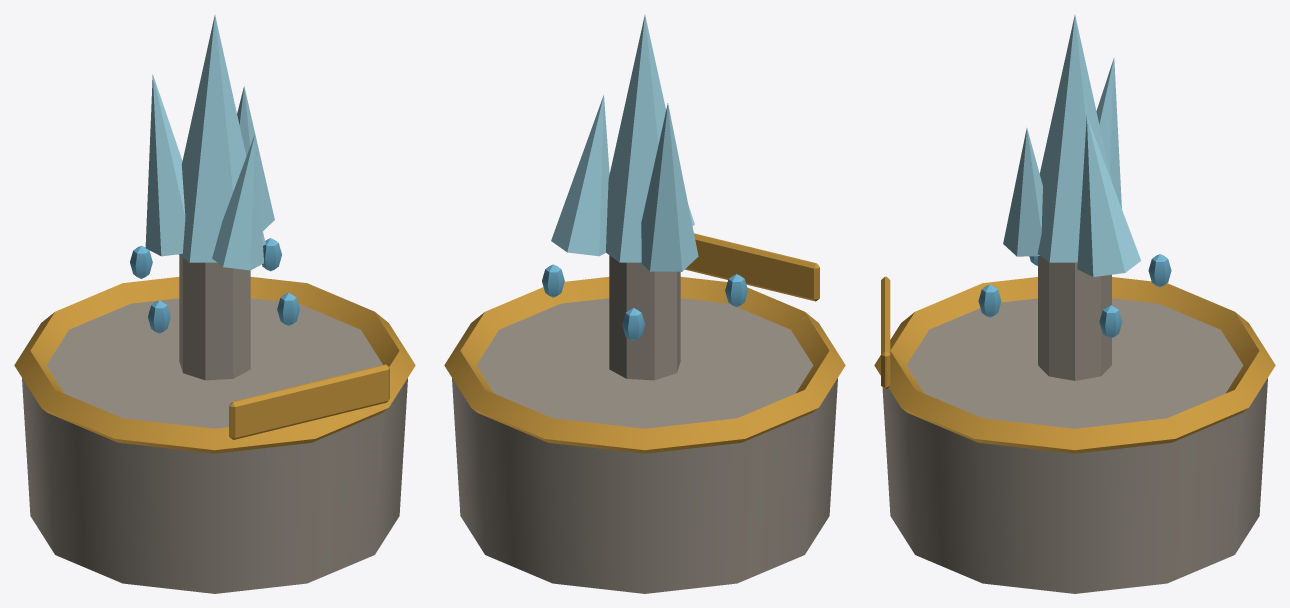
Rendered from PR_Station_Kristal_T2.fbx.
3 renders of one model, left to right at view 1: azimuth 30°, elevation 25°; view 2: azimuth 150°, elevation 25°; view 3: azimuth 270°, elevation 25°, orthographic.
Parts seen in each view (by area): view 1: PR_Station_Kristal_T2; view 2: PR_Station_Kristal_T2; view 3: PR_Station_Kristal_T2.
Boxes of the visible parts, x1=… form: PR_Station_Kristal_T2: x1=14, y1=15, x2=415, y2=593; PR_Station_Kristal_T2: x1=444, y1=15, x2=845, y2=593; PR_Station_Kristal_T2: x1=874, y1=15, x2=1275, y2=593.
Size of the model in its own units: 0.87 by 1.2 by 0.87.
